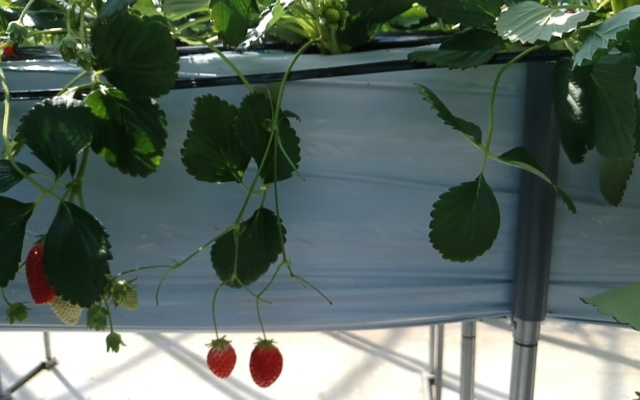GreenStrawberry: (48, 277, 87, 331), (108, 280, 139, 314)
MatureStrawberry: (24, 234, 64, 308), (248, 338, 286, 389), (206, 340, 238, 379)
